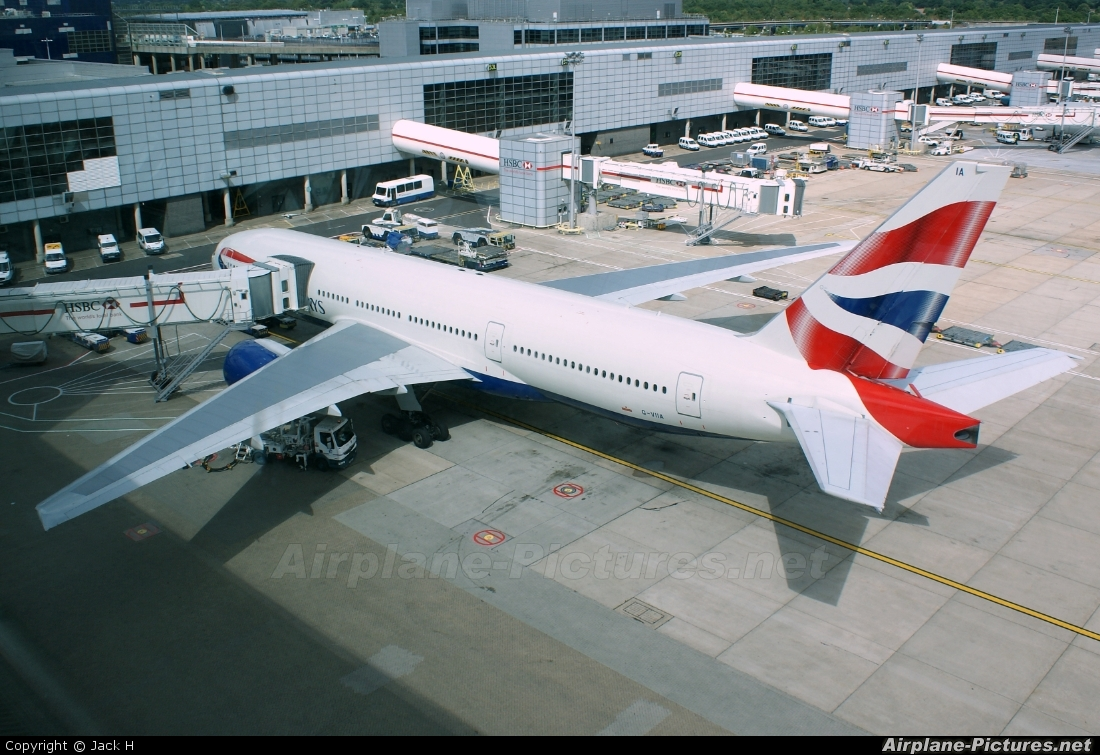aeroplane: (31, 161, 1000, 516)
